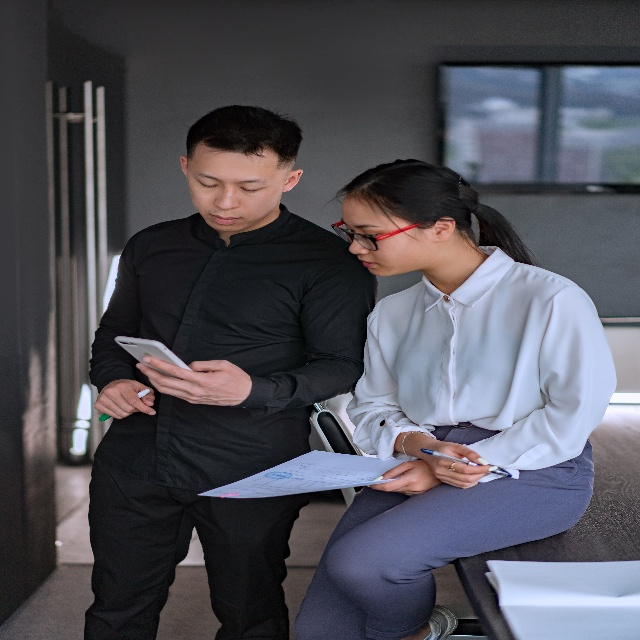Gafas: (331, 215, 424, 250)
Sin_guantes: (135, 356, 251, 407), (428, 439, 498, 489), (370, 458, 440, 495), (93, 381, 156, 420)
